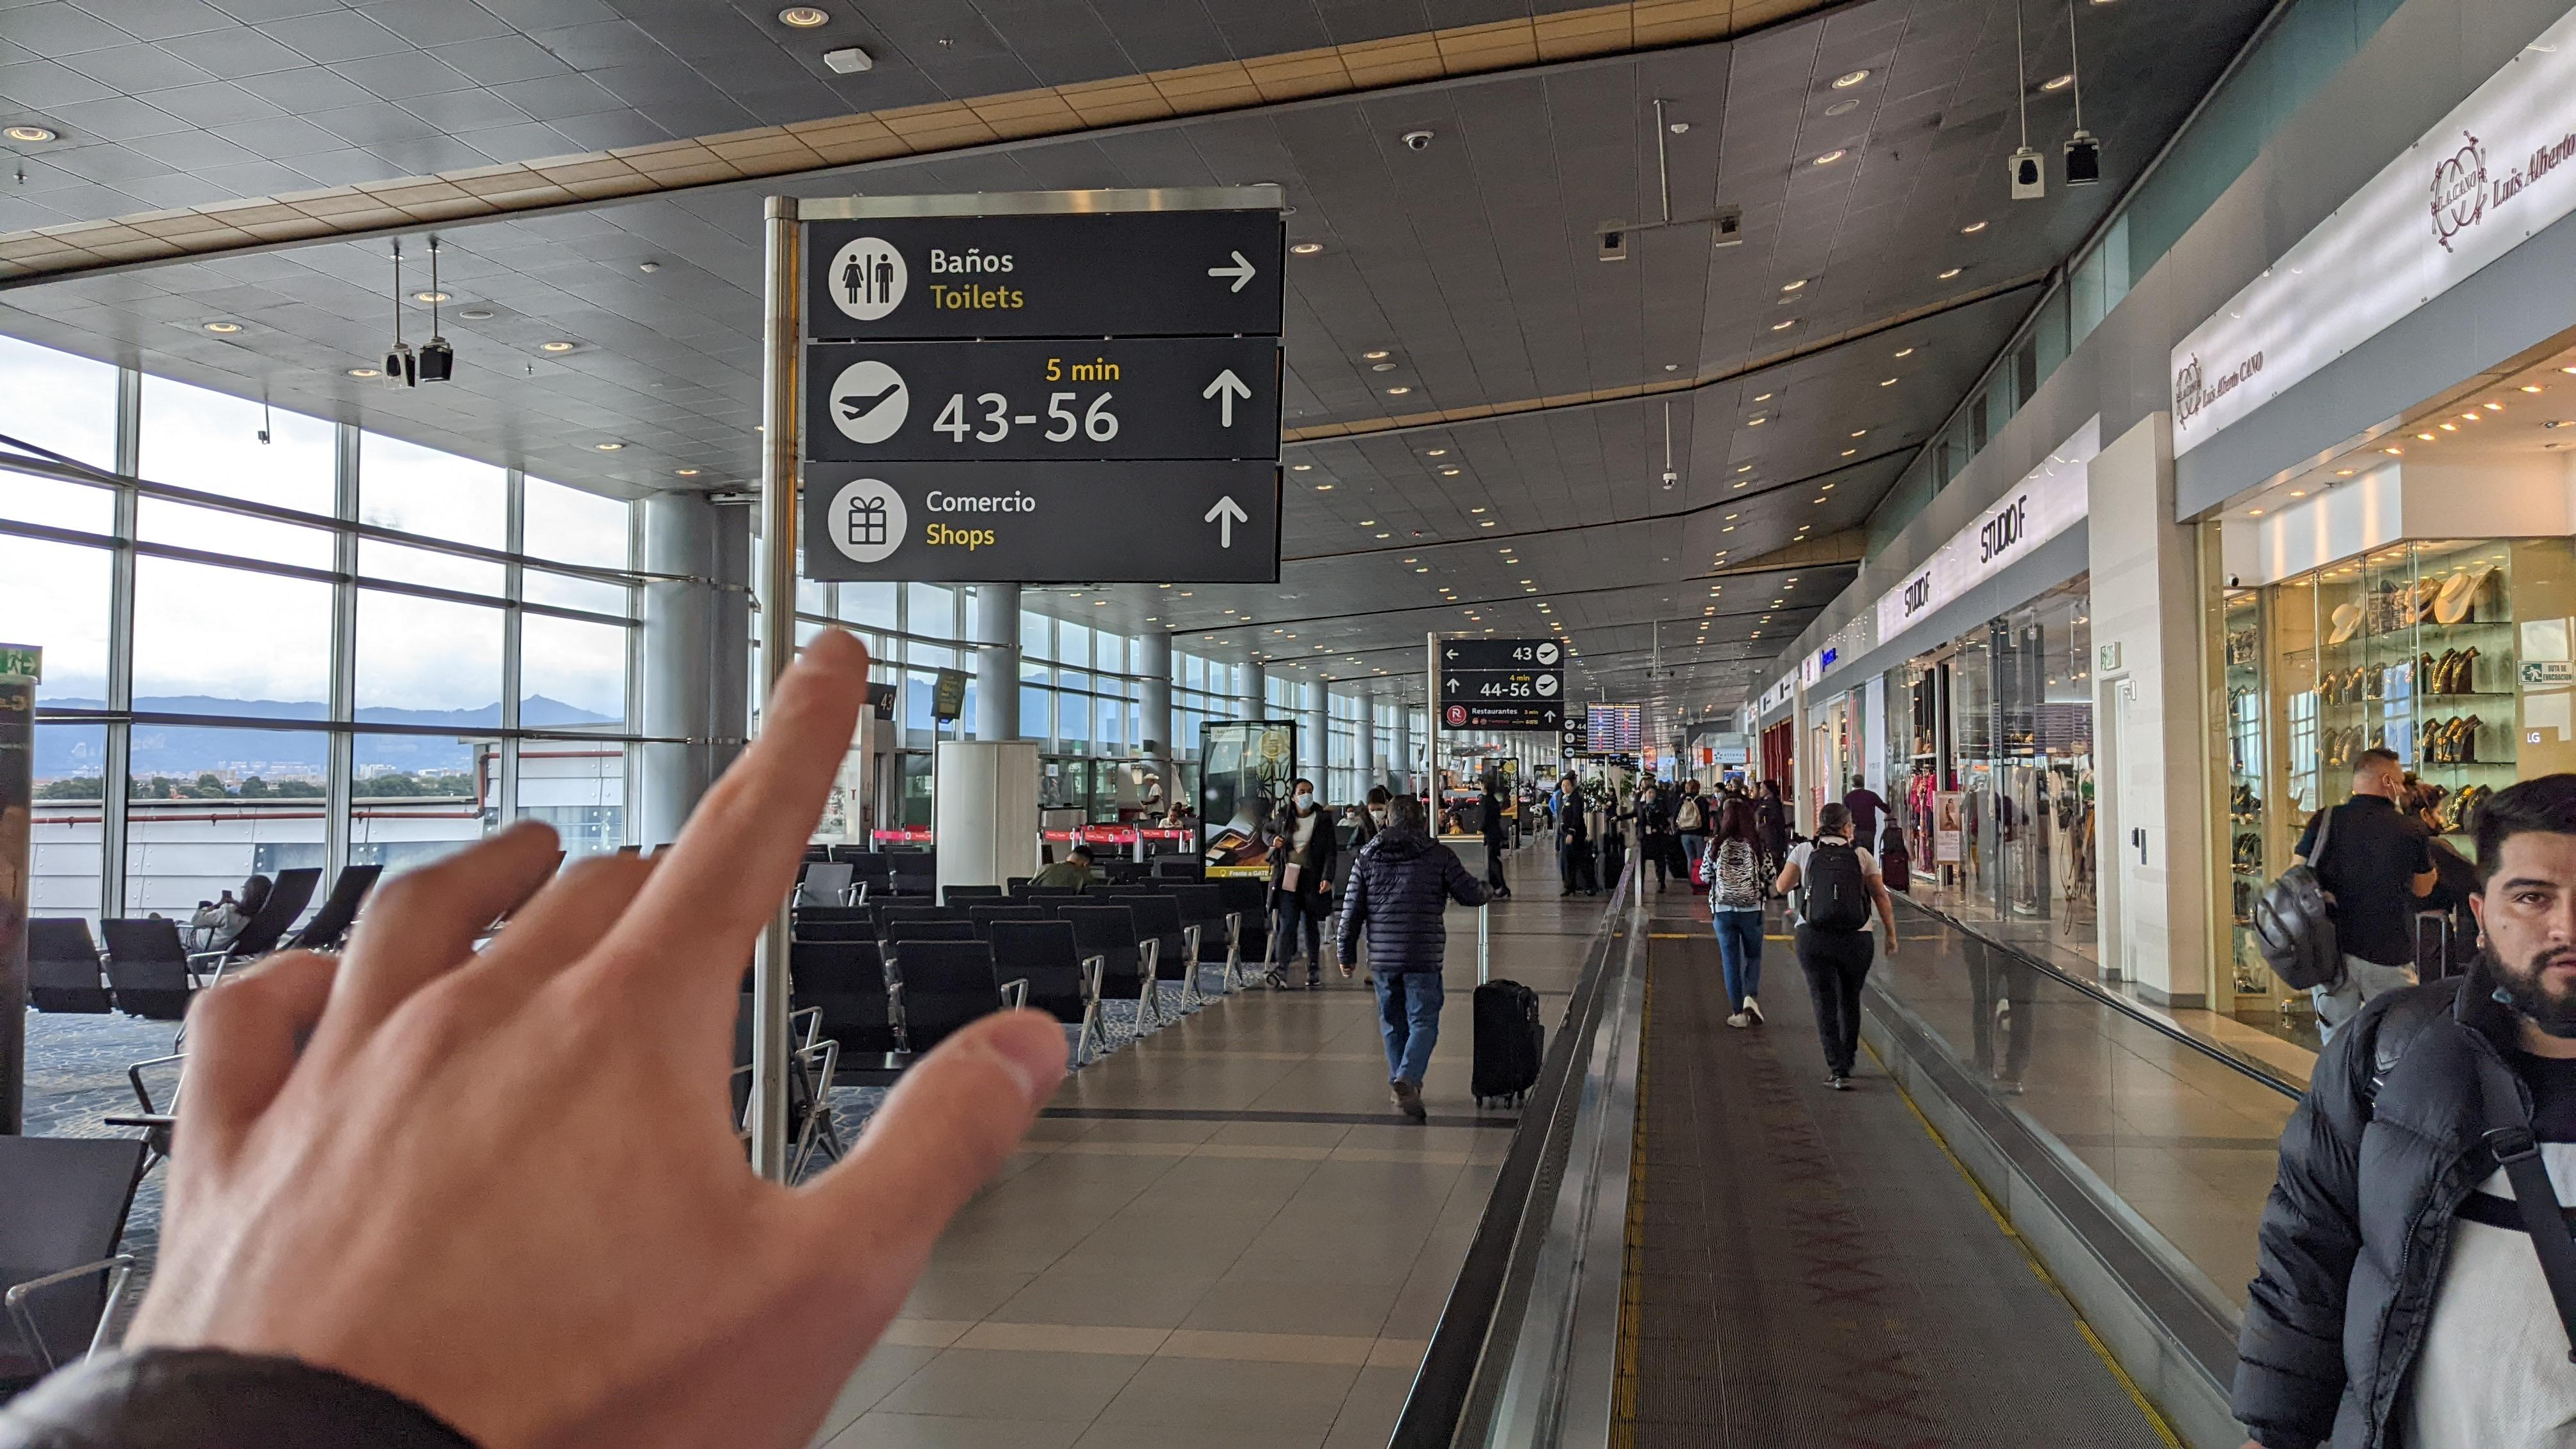airplane symbol: (837, 379, 902, 423), (1539, 648, 1557, 660), (1537, 679, 1555, 690), (1566, 722, 1575, 727)
bathrooms: (840, 251, 897, 308)
left arrow: (1445, 649, 1460, 660)
right arrow: (1205, 249, 1260, 297)
up arrow: (1200, 366, 1260, 430), (1203, 492, 1253, 552), (1445, 678, 1461, 694), (1543, 709, 1557, 724)
